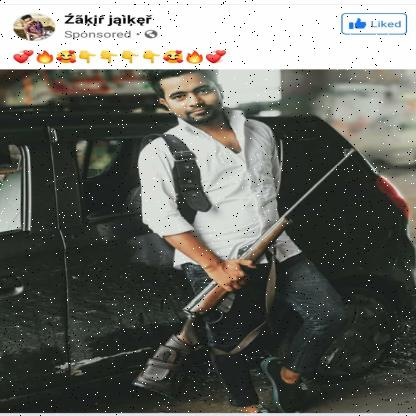rifle: (126, 146, 360, 404)
